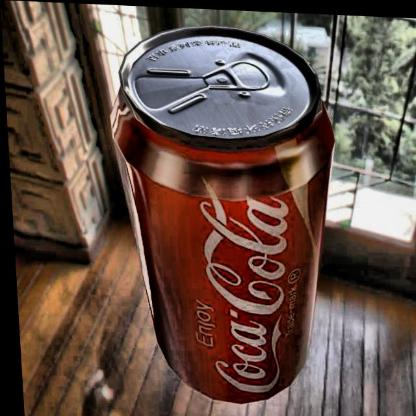Can: (103, 15, 351, 415)
